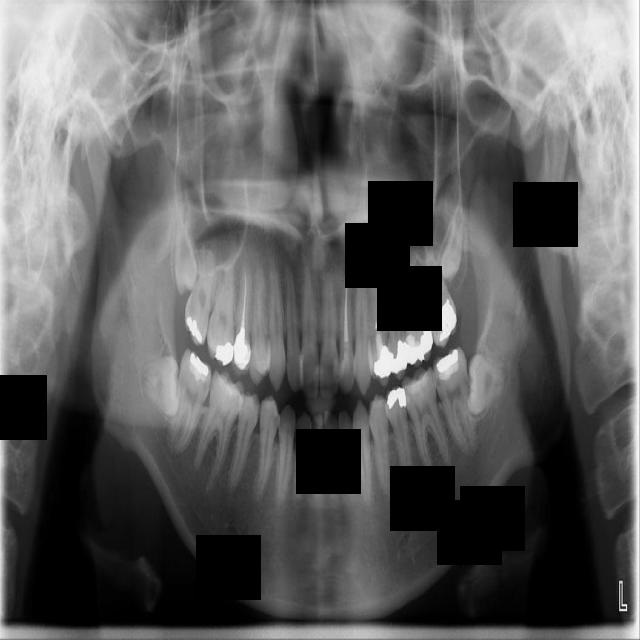3M ESPE Implant: (172, 206, 199, 297)
52: (167, 345, 224, 404), (426, 346, 473, 398), (397, 364, 443, 414), (365, 327, 393, 387), (402, 316, 433, 368), (207, 319, 235, 368), (320, 332, 339, 400), (431, 298, 457, 347), (301, 333, 319, 402), (387, 325, 408, 382), (185, 295, 208, 346), (383, 386, 409, 430), (233, 326, 252, 376), (340, 341, 357, 394), (342, 415, 356, 434), (200, 377, 214, 394), (328, 413, 340, 430), (295, 415, 304, 437), (311, 421, 319, 440), (306, 429, 312, 446), (210, 378, 214, 391), (336, 445, 339, 452), (310, 447, 312, 455)
73: (234, 254, 253, 340), (340, 269, 353, 355), (518, 590, 522, 598)
BioHorizons Implant: (423, 244, 460, 351)
BioLife Implant: (438, 205, 472, 282)
Biomet 3i Implant: (468, 354, 506, 417)
Blue Sky Bio Implant: (429, 346, 478, 455)
Caries: (180, 245, 220, 348)
Implant: (165, 348, 216, 455)
Keystone Dental Implant: (140, 355, 185, 420)
